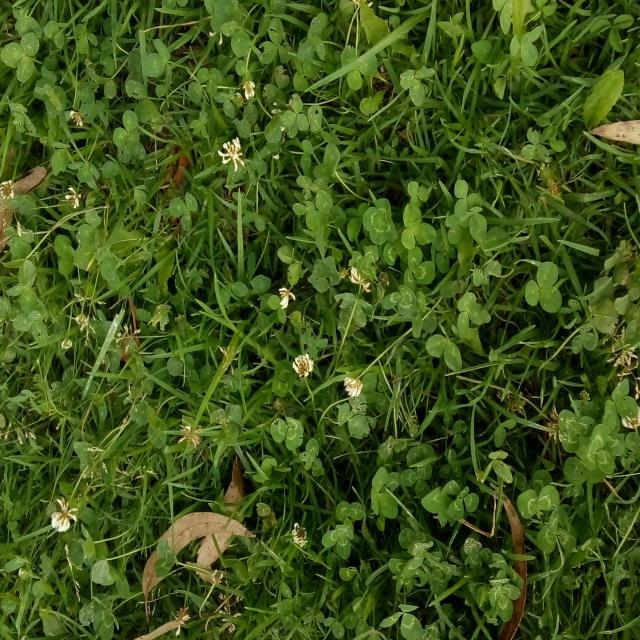Four Leaf Clover: (305, 189, 346, 259), (361, 197, 399, 245)
